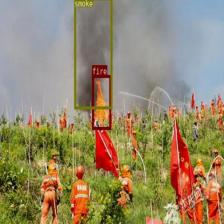fire: (92, 74, 110, 129)
smoke: (74, 0, 112, 108)
